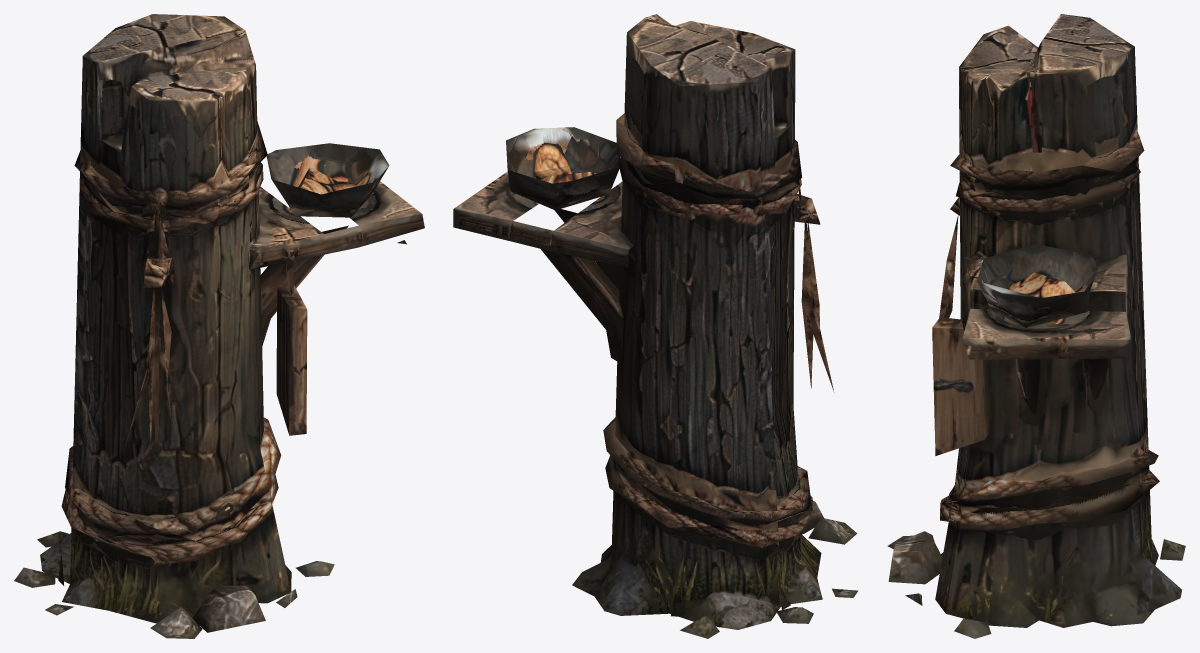
Rendered from act1_kit_v1_toll_post.glb.
3 views of the same model, side by side, from view 1: azimuth 30°, elevation 25°; view 2: azimuth 150°, elevation 25°; view 3: azimuth 270°, elevation 25° (orthographic).
Parts seen in each view (by area): view 1: A22_2_toll_post; view 2: A22_2_toll_post; view 3: A22_2_toll_post.
Part boxes in pixels (x1,y1,x2,y2): A22_2_toll_post: [14, 14, 424, 638]; A22_2_toll_post: [453, 14, 858, 638]; A22_2_toll_post: [887, 14, 1185, 638].
Size of the model in its own units: 0.6969 by 0.9887 by 0.4954.
Materials: 1 (1 with a texture image).
